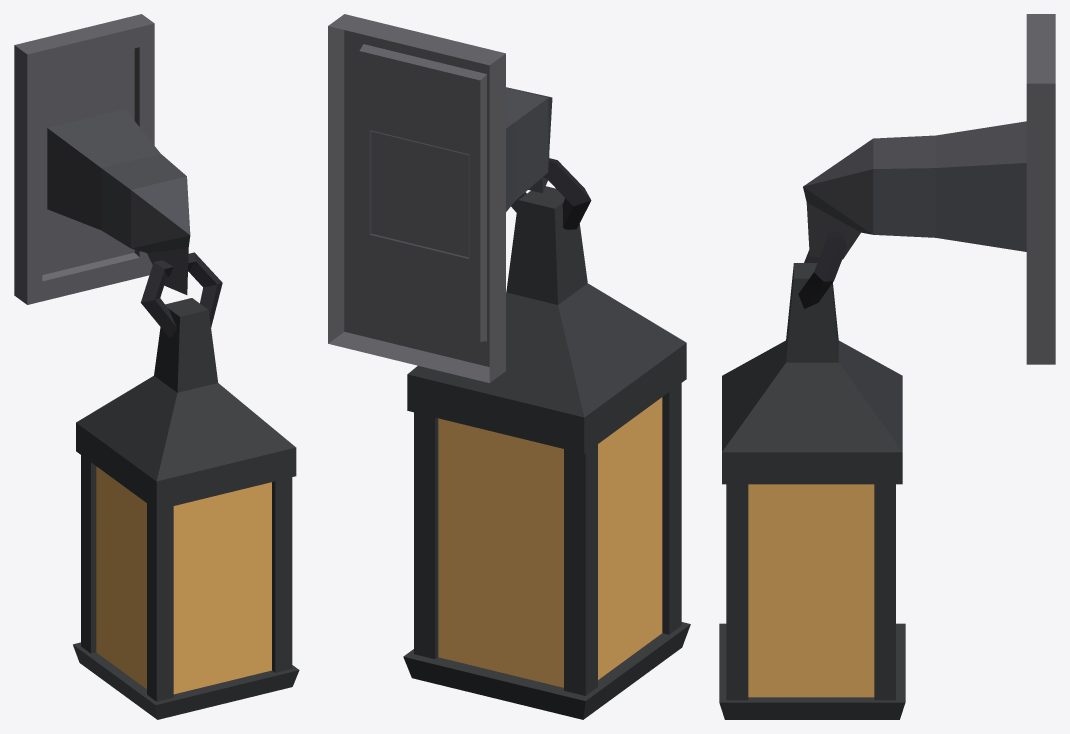
Rendered from Lantern_1.fbx.
3 views of the same model, side by side, from view 1: azimuth 30°, elevation 25°; view 2: azimuth 150°, elevation 25°; view 3: azimuth 270°, elevation 25° (orthographic). The views are drawn at different scales.
Parts seen in each view (by area): view 1: pCube801; view 2: pCube801; view 3: pCube801.
Part boxes in pixels (x1,y1,x2,y2): pCube801: (14, 14, 299, 719); pCube801: (328, 14, 690, 719); pCube801: (719, 14, 1055, 719).
Bounding box in the file's own units: 27.2 × 102 × 49.14.
